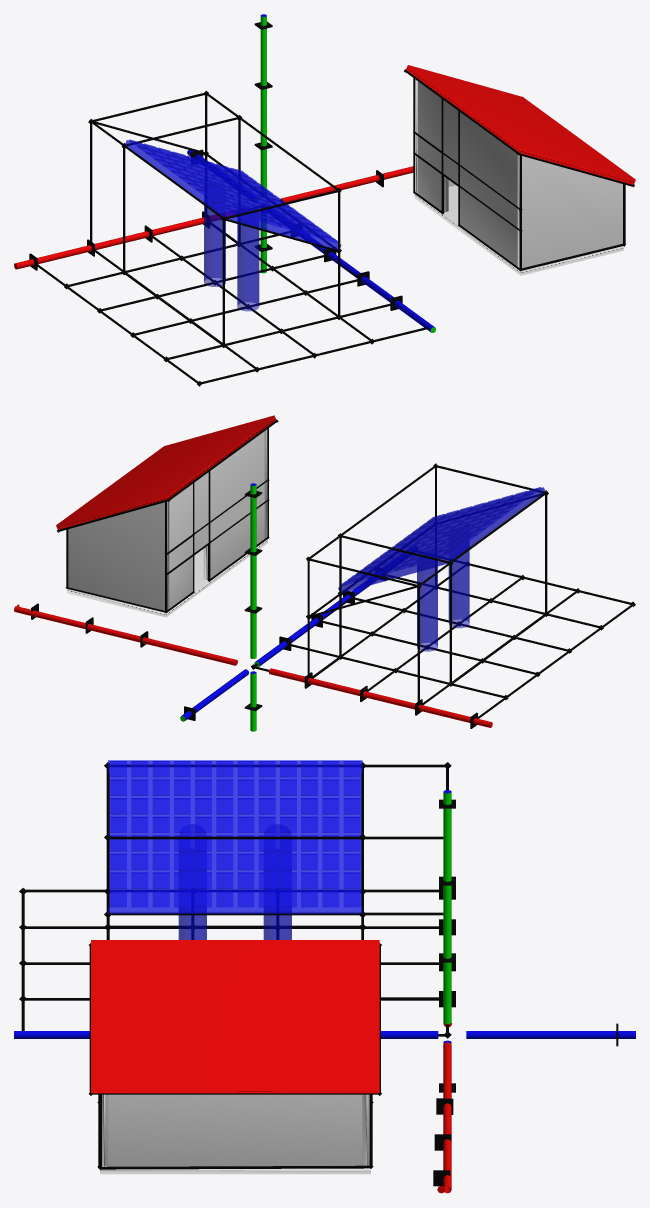
The model's file is Panel Solar-2.fbx.
3 renders of one model, top to bottom at view 1: azimuth 30°, elevation 25°; view 2: azimuth 150°, elevation 25°; view 3: azimuth 270°, elevation 25°, orthographic. The views are drawn at different scales.
Parts seen in each view (by area): view 1: polySurface152, polySurface150, polySurface153, polySurface250, polySurface252, polySurface251, polySurface148, polySurface24, polySurface18, polySurface30, polySurface27; view 2: polySurface152, polySurface149, polySurface153, polySurface250, polySurface251, polySurface252, polySurface27, polySurface24, polySurface148, polySurface18, polySurface30, polySurface33; view 3: polySurface153, polySurface250, polySurface151, polySurface18, polySurface148, polySurface33, polySurface27, polySurface252, polySurface251, polySurface30, polySurface144, polySurface128 (+2 smaller).
Part boxes in pixels (left/top/right/bottom): polySurface152: left=418, top=81, right=517, bottom=266; polySurface150: left=517, top=155, right=622, bottom=268; polySurface153: left=406, top=65, right=635, bottom=184; polySurface250: left=125, top=140, right=341, bottom=249; polySurface252: left=237, top=216, right=259, bottom=311; polySurface251: left=204, top=181, right=225, bottom=286; polySurface148: left=414, top=185, right=623, bottom=275; polySurface24: left=16, top=212, right=234, bottom=269; polySurface18: left=260, top=16, right=266, bottom=189; polySurface30: left=295, top=231, right=434, bottom=332; polySurface27: left=281, top=166, right=413, bottom=202; polySurface152: left=169, top=431, right=264, bottom=608; polySurface149: left=68, top=501, right=169, bottom=610; polySurface153: left=56, top=415, right=276, bottom=529; polySurface250: left=338, top=487, right=545, bottom=592; polySurface251: left=417, top=550, right=437, bottom=651; polySurface252: left=448, top=542, right=469, bottom=628; polySurface27: left=14, top=606, right=236, bottom=665; polySurface24: left=269, top=668, right=491, bottom=727; polySurface148: left=67, top=539, right=267, bottom=617; polySurface18: left=250, top=485, right=256, bottom=658; polySurface30: left=255, top=575, right=382, bottom=666; polySurface33: left=181, top=669, right=248, bottom=720; polySurface153: left=91, top=940, right=379, bottom=1093; polySurface250: left=108, top=760, right=362, bottom=913; polySurface151: left=108, top=1094, right=362, bottom=1166; polySurface18: left=443, top=792, right=451, bottom=1024; polySurface148: left=100, top=1166, right=370, bottom=1174; polySurface33: left=466, top=1031, right=635, bottom=1038; polySurface27: left=443, top=1042, right=451, bottom=1193; polySurface252: left=178, top=824, right=206, bottom=939; polySurface251: left=263, top=824, right=291, bottom=939; polySurface30: left=14, top=1031, right=438, bottom=1038; polySurface144: left=110, top=836, right=360, bottom=839; polySurface128: left=111, top=912, right=359, bottom=915.
Size of the model in its own units: 292 by 144 by 248.
